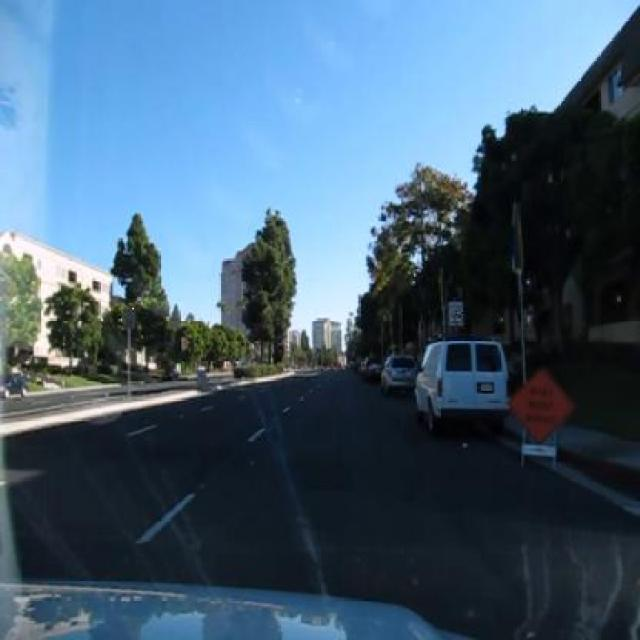speedLimit35: (448, 300, 464, 325), (121, 306, 137, 330)
